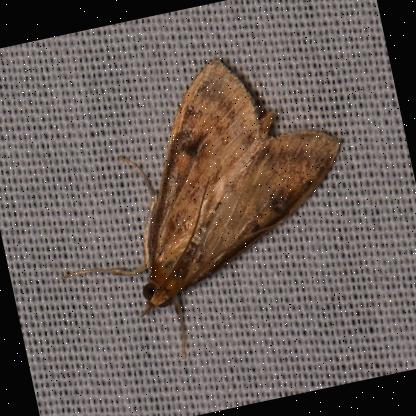Asian Corn Borer Moth: (17, 31, 384, 384)
